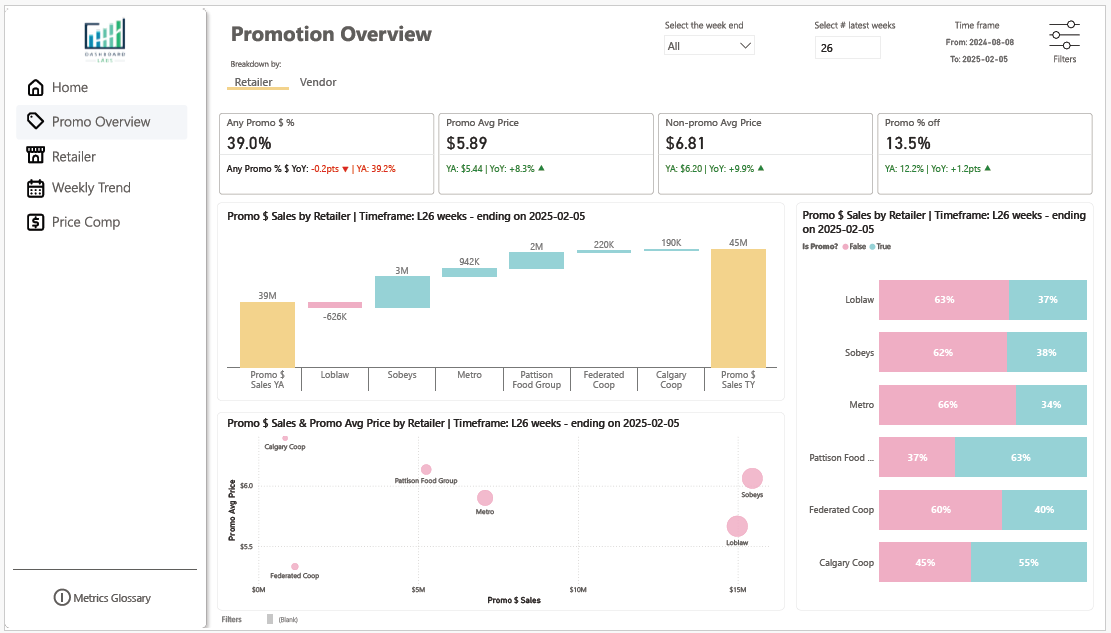

The page's visual inventory and layout, read from the dashboard file:
{"tool":"powerbi","page":{"name":"Overview","canvas":[1920,1080],"ordinal":1},"visuals":[{"type":"actionButton","box":[1811.2,15,75,85],"z":0},{"type":"SimpleWaterfall","fields":{"category":["dStores.retail_group","dStores.banner","dStores.store_name"],"measure":["_Measures.P Dynamic Promo Dollar Sales YA","_Measures.P Dynamic Promo Dollar Sales"]},"box":[382.9,348.6,972.9,330],"z":1000},{"type":"hundredPercentStackedBarChart","fields":{"Category":["dStores.retail_group","dStores.banner","dStores.store_name"],"Series":["fPromo.is_promo_week"],"Y":["_Measures.P Dynamic Dollar Sales"]},"box":[1387.1,345.7,505,698.6],"z":2000},{"type":"slicer","fields":{"Values":["Parameter_Weeks.Parameter_Weeks"]},"box":[1401.4,37.1,175.7,58.6],"z":3000},{"type":"slicer","fields":{"Values":["dCalendar.week_end_date"]},"box":[1141.4,35.7,177.1,60],"z":4000},{"type":"multiRowCard","fields":{"Values":["_Measures.From Date"]},"box":[1637.2,44.6,133.6,33.6],"z":5000},{"type":"multiRowCard","fields":{"Values":["_Measures.To Date"]},"box":[1644.9,74.4,118.4,34.2],"z":6000},{"type":"scatterChart","fields":{"Category":["dStores.retail_group","dStores.banner","dStores.store_name"],"Y":["_Measures.P Dynamic Promo Avg Price"],"X":["_Measures.P Dynamic Promo Dollar Sales"],"Size":["_Measures.P Dynamic Unit Sales"]},"box":[382.9,708.6,972.9,335.7],"z":7000},{"type":"cardVisual","fields":{"Data":["_Measures.P Dynamic % Promo Dollar Sales","_Measures.P Dynamic Promo Avg Price","_Measures.P Dynamic Non-promo Avg Price","_Measures.P Dynamic % off"]},"box":[368.6,177.1,1534.3,152.9],"z":8000},{"type":"advancedSlicerVisual","fields":{"Values":["Parameter - Vendors and Retailers.Value4"]},"box":[382.9,94.3,231.4,52.9],"z":9000},{"type":"actionButton","box":[22.5,116.2,296.2,41.2],"z":11000},{"type":"actionButton","box":[22,232.5,296,41.2],"z":12000},{"type":"actionButton","box":[22,294,296,41],"z":13000},{"type":"actionButton","box":[22.5,348.8,296,48],"z":14000},{"type":"multiRowCard","fields":{"Values":["_Measures.Dump Filters"]},"box":[473.3,1051.7,1430,26.7],"z":15000},{"type":"textbox","box":[373.3,1052.4,98.6,27.1],"z":16000},{"type":"actionButton","box":[80,1006.7,178.3,40],"z":17000}]}

Visuals, with their boxes on the page's 1920x1080 design canvas (x1, y1, x2, y2). These are canvas units, not pixel positions in the 1111x633 screenshot, which may show the page scaled, cropped or inside an application window:
actionButton: [1811,15,1886,100]
SimpleWaterfall - dStores.retail_group x dStores.banner: [383,349,1356,679]
hundredPercentStackedBarChart - dStores.retail_group x dStores.banner: [1387,346,1892,1044]
slicer - Parameter_Weeks.Parameter_Weeks: [1401,37,1577,96]
slicer - dCalendar.week_end_date: [1141,36,1318,96]
multiRowCard - _Measures.From Date: [1637,45,1771,78]
multiRowCard - _Measures.To Date: [1645,74,1763,109]
scatterChart - dStores.retail_group x dStores.banner: [383,709,1356,1044]
cardVisual - _Measures.P Dynamic % Promo Dollar Sales x _Measures.P Dynamic Promo Avg Price: [369,177,1903,330]
advancedSlicerVisual - Parameter - Vendors and Retailers.Value4: [383,94,614,147]
actionButton: [22,116,319,157]
actionButton: [22,232,318,274]
actionButton: [22,294,318,335]
actionButton: [22,349,318,397]
multiRowCard - _Measures.Dump Filters: [473,1052,1903,1078]
textbox: [373,1052,472,1080]
actionButton: [80,1007,258,1047]
